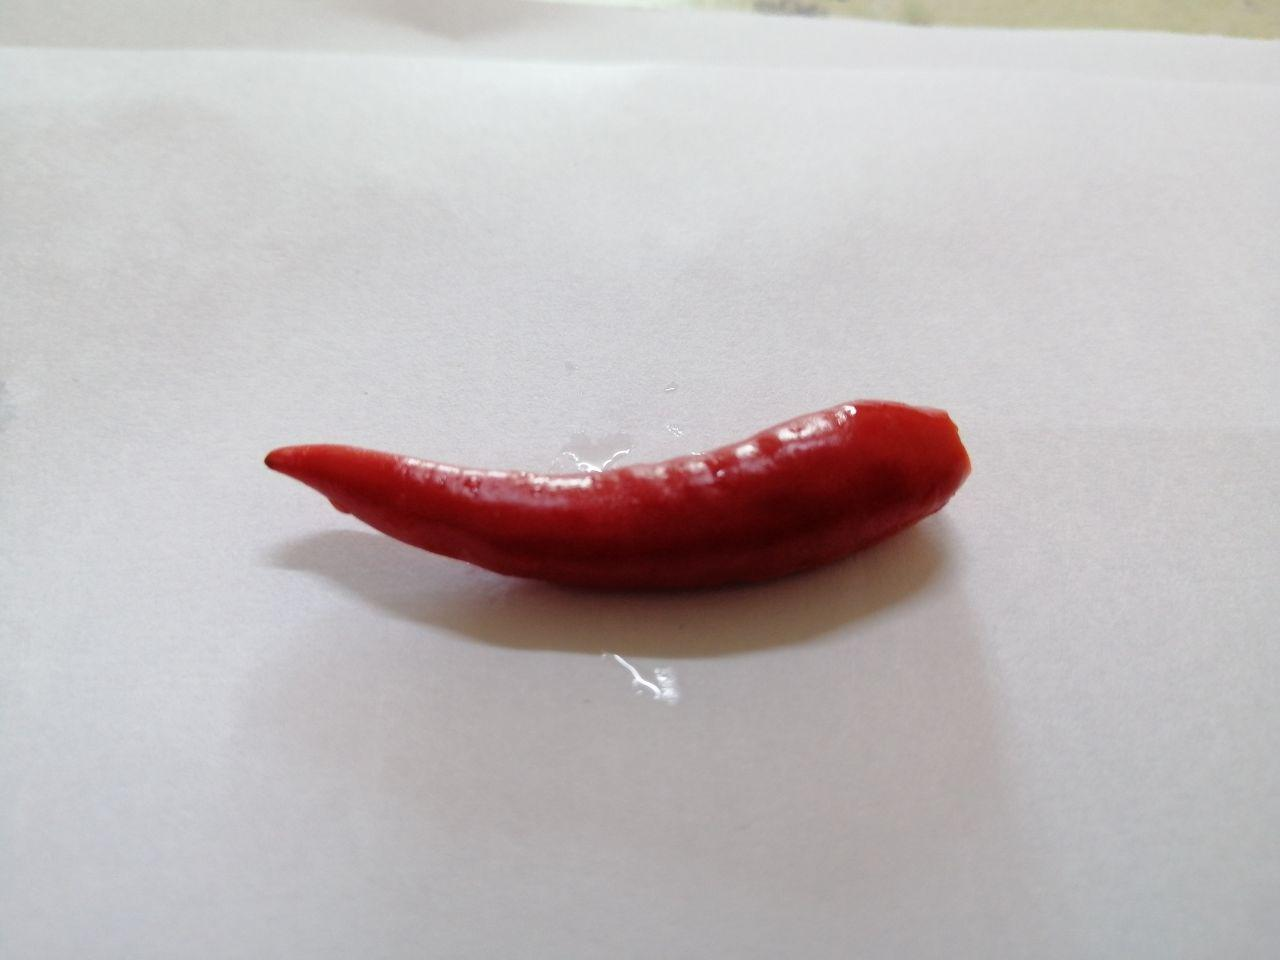lada merah: (233, 372, 1016, 615)
